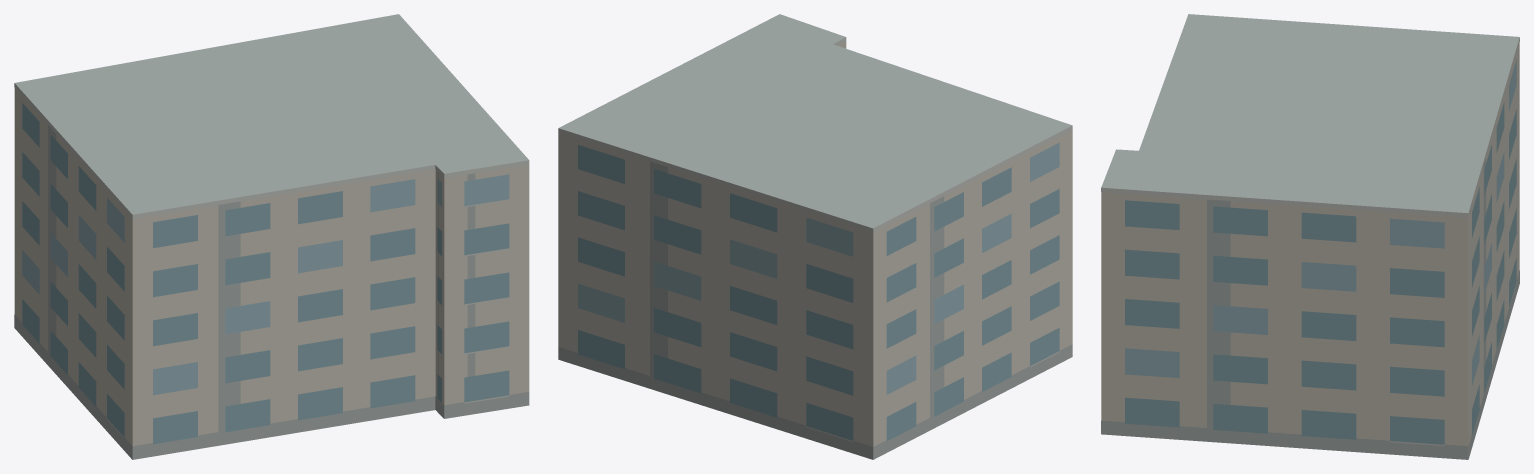
Rendered from survey-upis-32674381.glb.
3 views of the same model, side by side, from view 1: azimuth 30°, elevation 25°; view 2: azimuth 150°, elevation 25°; view 3: azimuth 270°, elevation 25° (orthographic). The views are drawn at different scales.
Visible parts, largest first — view 1: survey-upis-32674381.tmp; view 2: survey-upis-32674381.tmp; view 3: survey-upis-32674381.tmp.
Boxes of the visible parts, <box> form: survey-upis-32674381.tmp: <box>14,14,529,459</box>; survey-upis-32674381.tmp: <box>558,14,1072,459</box>; survey-upis-32674381.tmp: <box>1101,14,1519,459</box>.
Size of the model in its own units: 23.56 by 13.6 by 20.93.
